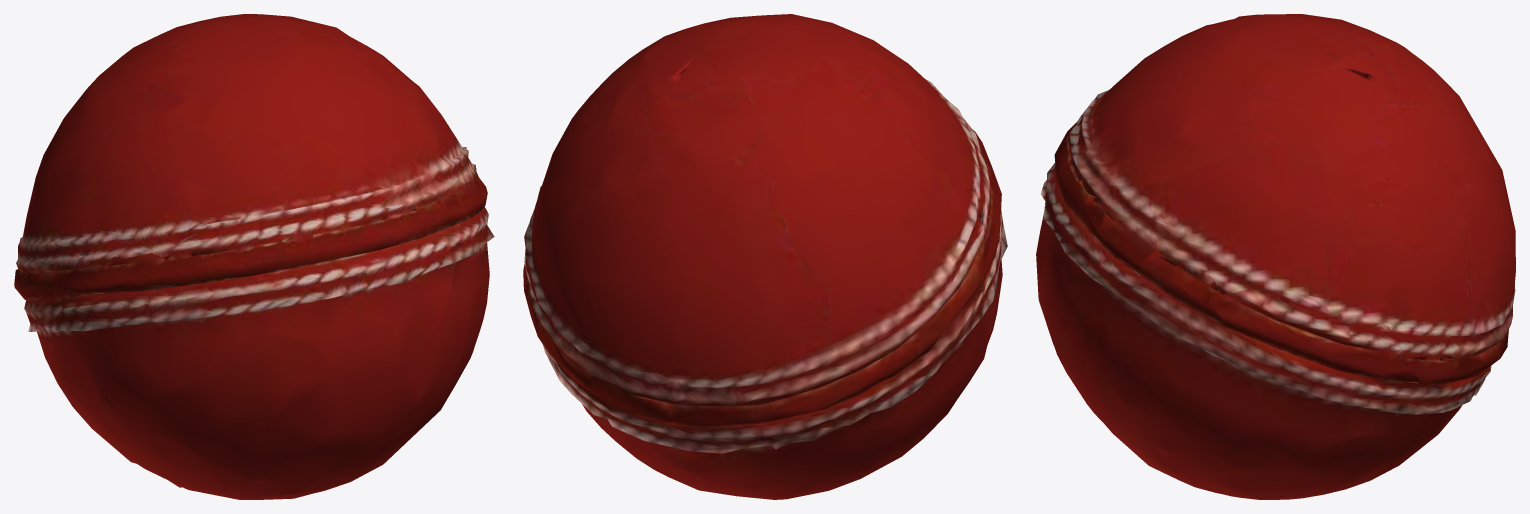
The model's file is ball.glb.
3 renders of one model, left to right at view 1: azimuth 30°, elevation 25°; view 2: azimuth 150°, elevation 25°; view 3: azimuth 270°, elevation 25°, orthographic.
Visible parts, largest first — view 1: ball; view 2: ball; view 3: ball.
Part boxes in pixels (x1,y1,x2,y2): ball: (14,14,494,499); ball: (523,14,1007,499); ball: (1036,14,1515,499).
Size of the model in its own units: 0.0724 by 0.072 by 0.071.
1 material, 1 textured.
